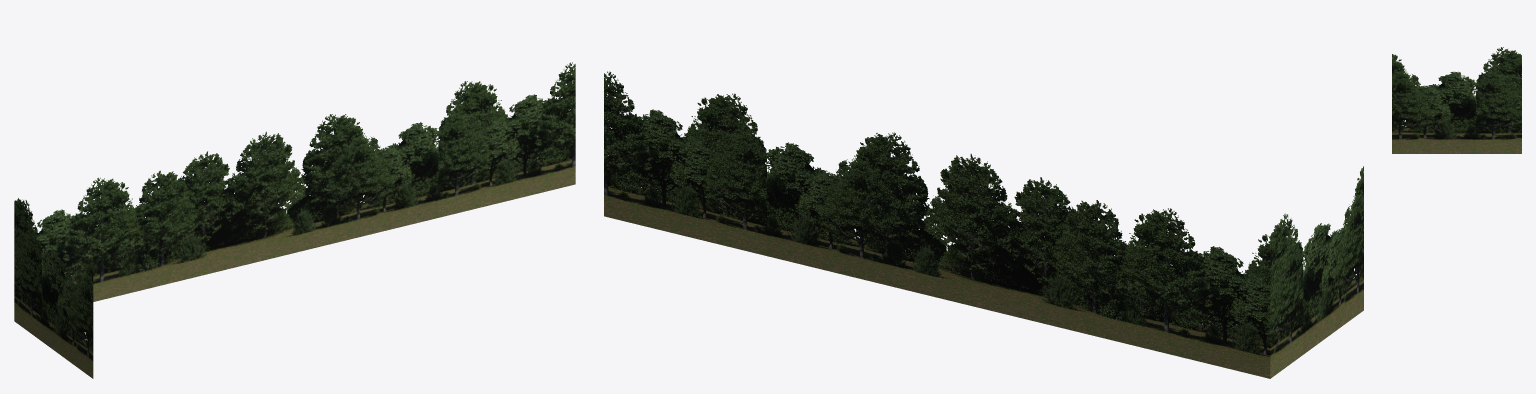
The model's file is VEG_BILLBOARD.fbx.
3 views of the same model, side by side, from view 1: azimuth 30°, elevation 25°; view 2: azimuth 150°, elevation 25°; view 3: azimuth 270°, elevation 25° (orthographic). The views are drawn at different scales.
Parts seen in each view (by area): view 1: Pelourinho_Veg_Billboard; view 2: Pelourinho_Veg_Billboard; view 3: Pelourinho_Veg_Billboard.
Part boxes in pixels (box(x1,y1,x2,y2)): Pelourinho_Veg_Billboard: box(14, 62, 575, 378); Pelourinho_Veg_Billboard: box(604, 71, 1363, 378); Pelourinho_Veg_Billboard: box(1392, 47, 1521, 153).
Size of the model in its own units: 95.46 by 27.85 by 23.24.
